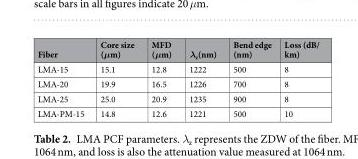table: (36, 37, 318, 119)
table column: (36, 37, 91, 119), (224, 37, 277, 119), (91, 37, 142, 119), (179, 37, 224, 119), (277, 37, 318, 119), (142, 37, 179, 119)
table column header: (36, 37, 318, 61)
table row: (36, 37, 318, 61), (36, 61, 318, 76), (36, 90, 318, 105), (36, 76, 318, 90), (36, 105, 318, 119)
